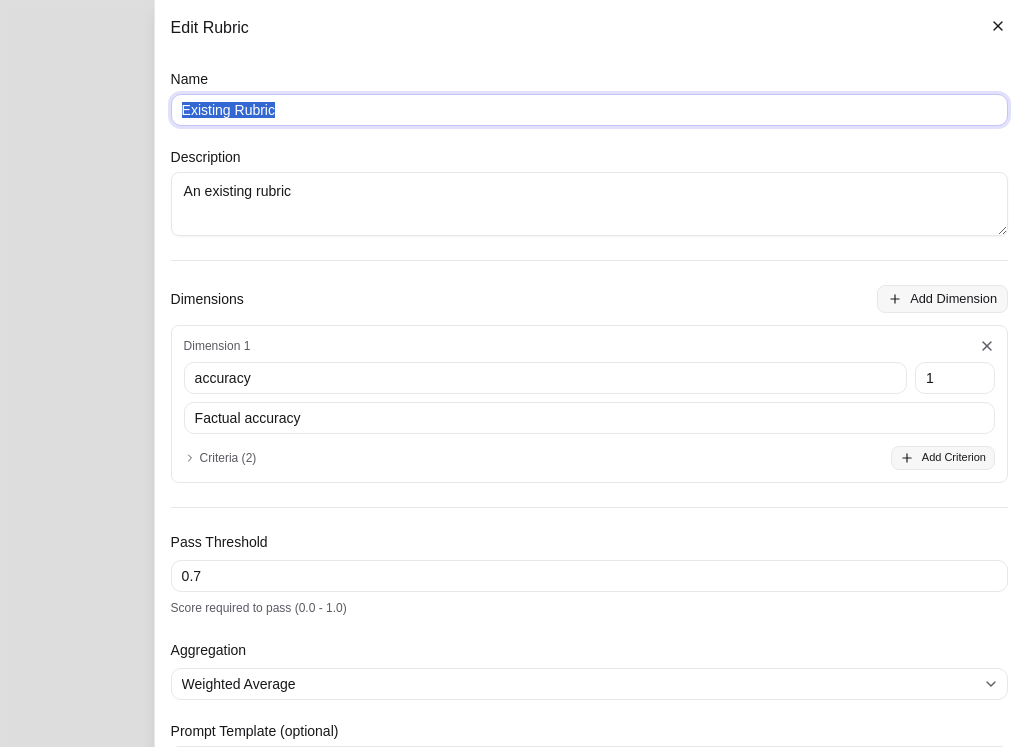
Scenario: RubricBuilder › loads criteria from existing rubric in edit mode
Click toggle to expand criteria
Click the button "Criteria (2)": (220, 458) [184,450,256,466]
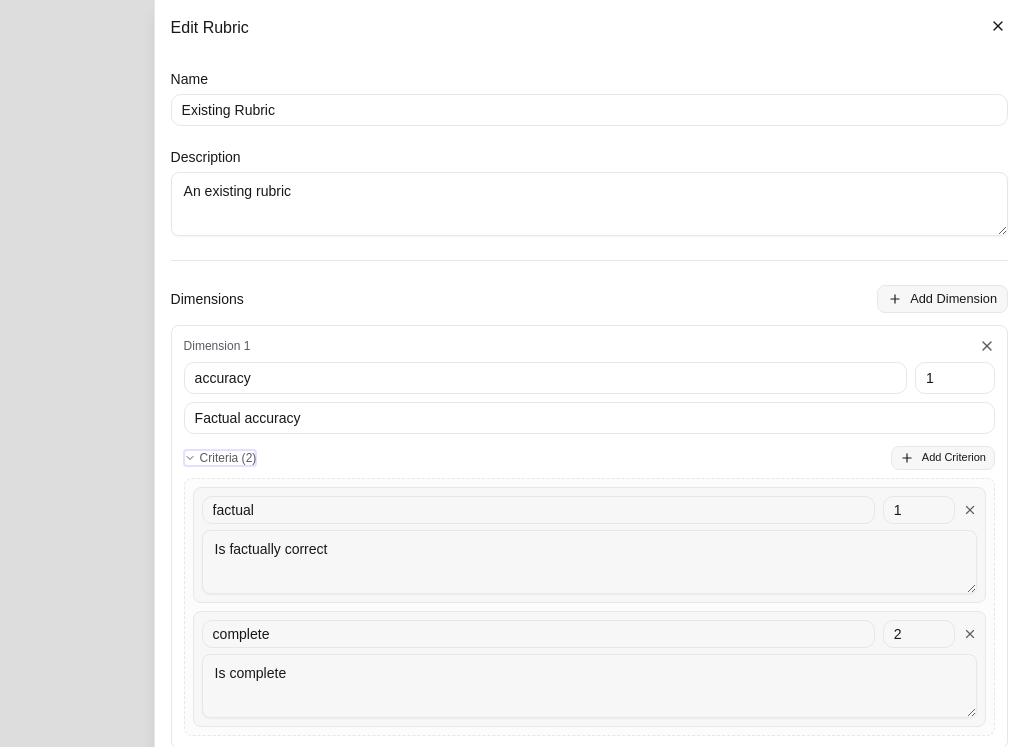
Expected: the 3rd field showing "factual" is shown, [202,496,875,524]
Expected: the 4th field showing "complete" is shown, [202,620,875,648]
Expected: the 1st text box showing "Is factually correct" is shown, [202,530,977,594]
